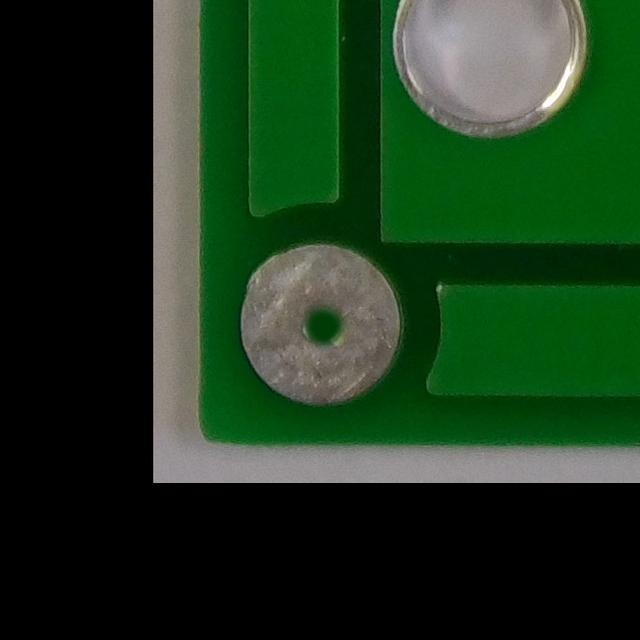missing_hole: (263, 262, 376, 379)
